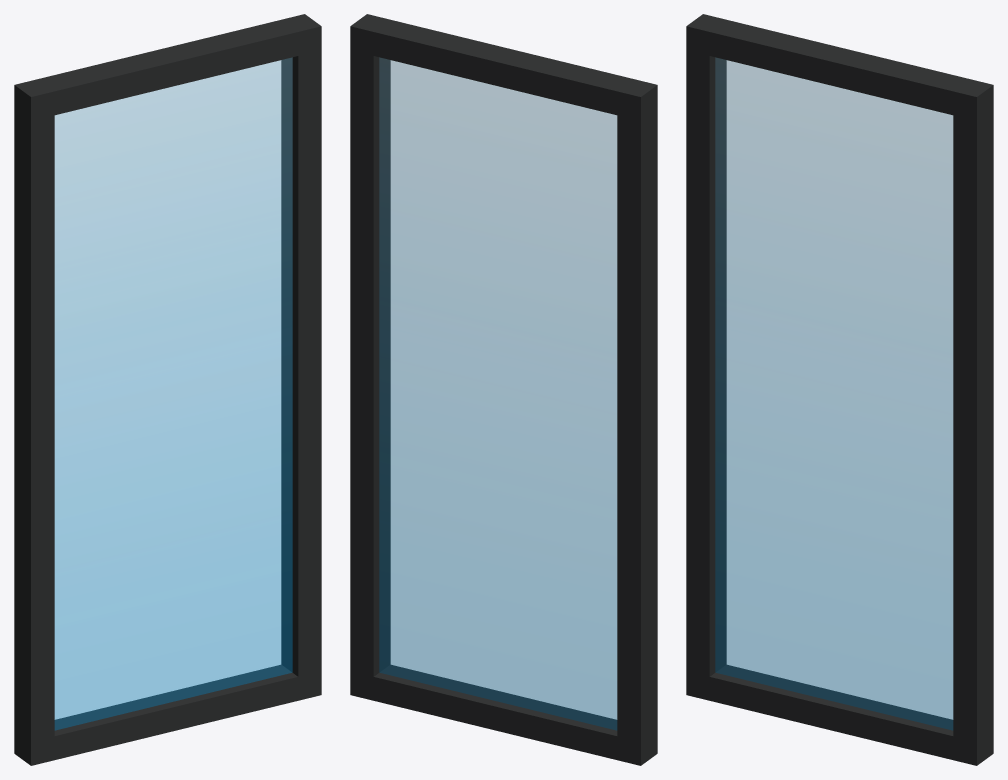
The model's file is Window_Black_04.glb.
3 renders of one model, left to right at view 1: azimuth 30°, elevation 25°; view 2: azimuth 150°, elevation 25°; view 3: azimuth 330°, elevation 25°, orthographic.
Visible parts, largest first — view 1: Window_Black_04; view 2: Window_Black_04; view 3: Window_Black_04.
Boxes of the visible parts, x1,y1,x2,y2 form: Window_Black_04: [14, 14, 321, 765]; Window_Black_04: [350, 14, 657, 765]; Window_Black_04: [686, 14, 993, 765].
Bounding box in the file's own units: 1 × 2.2 × 0.1.
2 materials, 2 textured.
